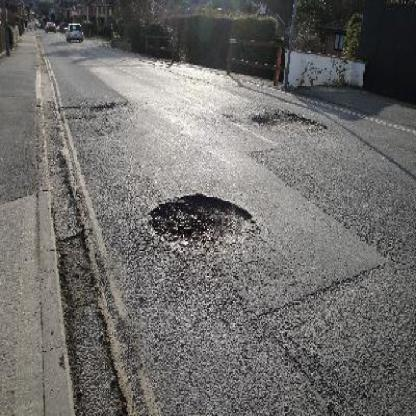pothole: (147, 191, 262, 255), (254, 109, 331, 134)
